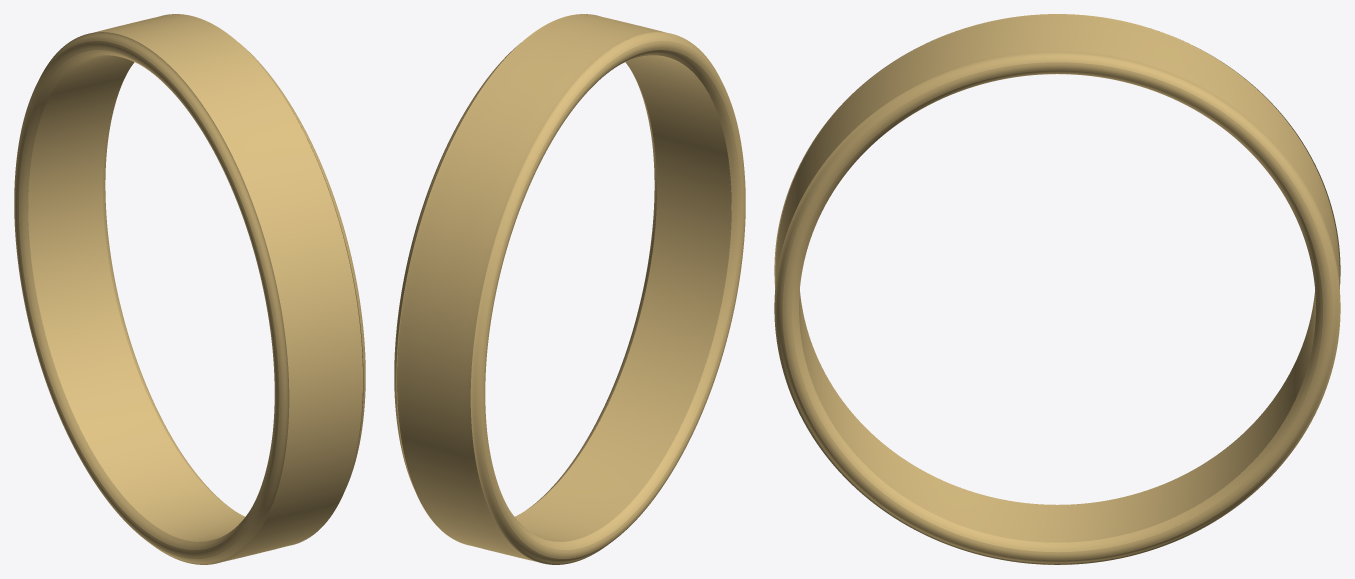
3 views of the same model, side by side, from view 1: azimuth 30°, elevation 25°; view 2: azimuth 150°, elevation 25°; view 3: azimuth 270°, elevation 25° (orthographic). The views are drawn at different scales.
Parts seen in each view (by area): view 1: P11-Outer, P11-Inner, P11-Sides; view 2: P11-Outer, P11-Inner, P11-Sides; view 3: P11-Sides, P11-Outer, P11-Inner.
Part boxes in pixels (x1=…): P11-Outer: x1=94, y1=14, x2=362, y2=561; P11-Inner: x1=28, y1=55, x2=247, y2=541; P11-Sides: x1=14, y1=14, x2=365, y2=564; P11-Outer: x1=397, y1=14, x2=665, y2=561; P11-Inner: x1=512, y1=55, x2=731, y2=541; P11-Sides: x1=394, y1=14, x2=745, y2=564; P11-Sides: x1=774, y1=39, x2=1340, y2=564; P11-Outer: x1=775, y1=14, x2=1339, y2=564; P11-Inner: x1=799, y1=51, x2=1315, y2=542.
Size of the model in its own units: 0.4289 by 2.3 by 2.29.
